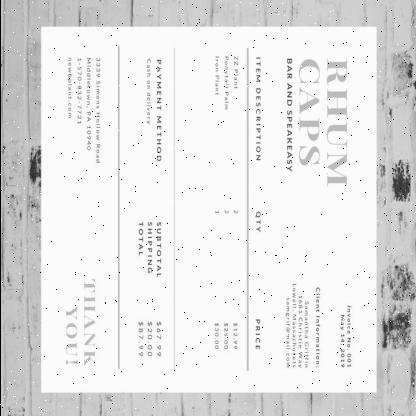Paragraph: (282, 53, 350, 189), (61, 51, 104, 170), (132, 216, 166, 364), (281, 280, 323, 374), (60, 274, 100, 372), (141, 53, 165, 169), (336, 300, 354, 374)
Table: (204, 47, 266, 372)
